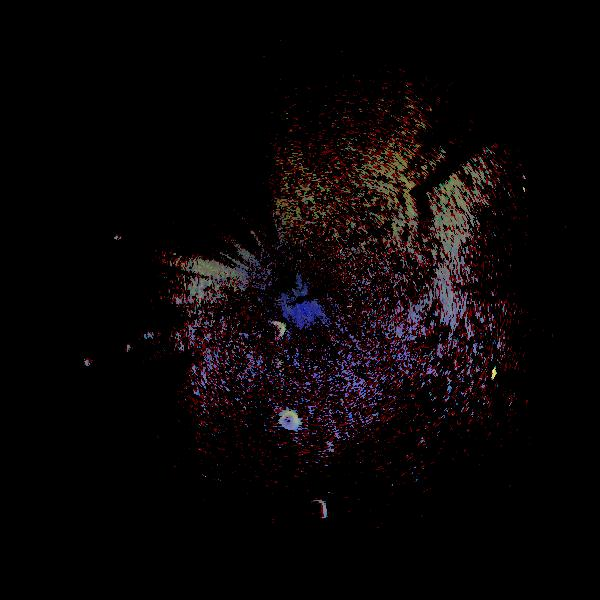roost: (306, 498, 330, 522), (279, 411, 300, 432), (269, 322, 287, 340)
